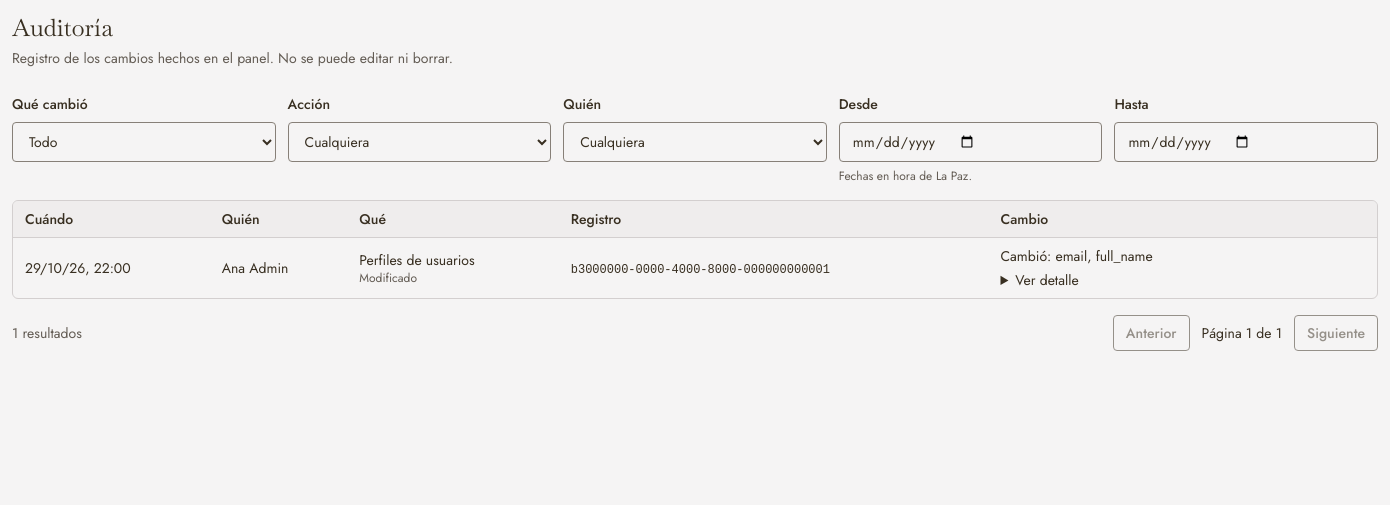
Test: AuditPage › un dato personal NO muestra valor: solo que cambió (no se inventa nada)
Expected: the table named "Auditoría" is shown, [13,201,1377,298]
What coordinates should you click on to do the following:
click the heading "Ver detalle"
I would click on:
 (1085, 280)
Its box is [1015,269,1155,290].
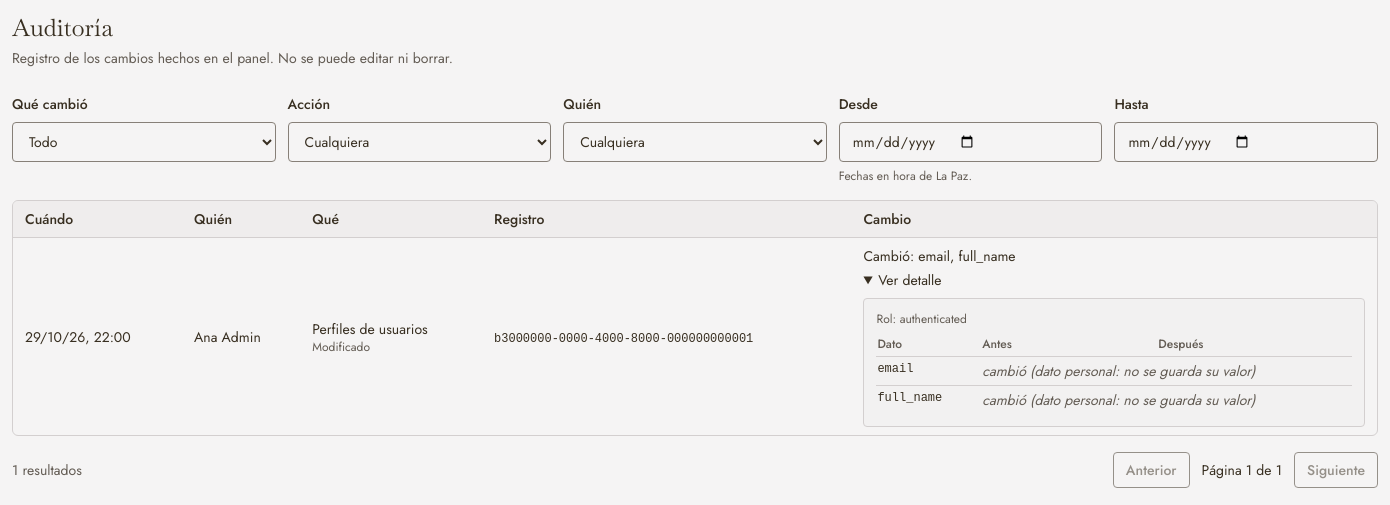
Result: the text "cambió (dato personal: no se guarda su valor)" is shown 2 times at [981,356,1352,386]; [981,386,1352,414]
